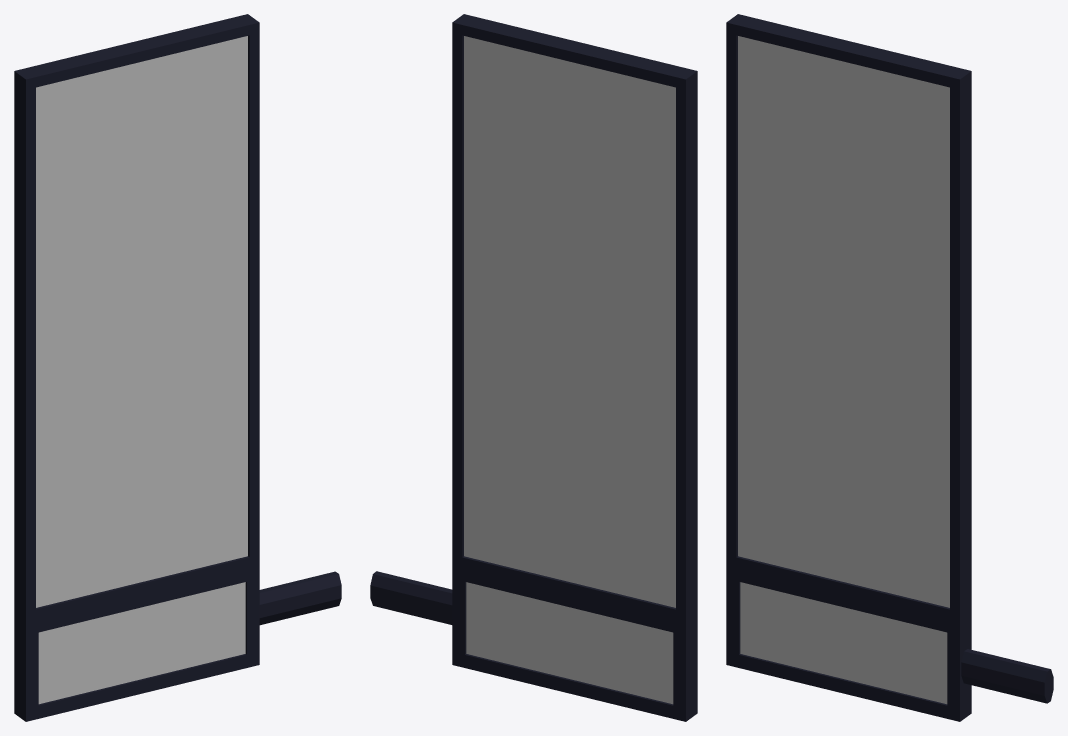
File: Sign_BigStreet05.fbx
The picture shows the model from 3 angles, left to right: view 1: azimuth 30°, elevation 25°; view 2: azimuth 150°, elevation 25°; view 3: azimuth 330°, elevation 25°; orthographic projection.
Visible parts, largest first — view 1: Cube.514; view 2: Cube.514; view 3: Cube.514.
Boxes of the visible parts, left/top/right/bottom form: Cube.514: left=14, top=14, right=341, bottom=721; Cube.514: left=370, top=14, right=697, bottom=721; Cube.514: left=726, top=14, right=1053, bottom=721.
Bounding box in the file's own units: 94.34 × 183 × 6.01.
